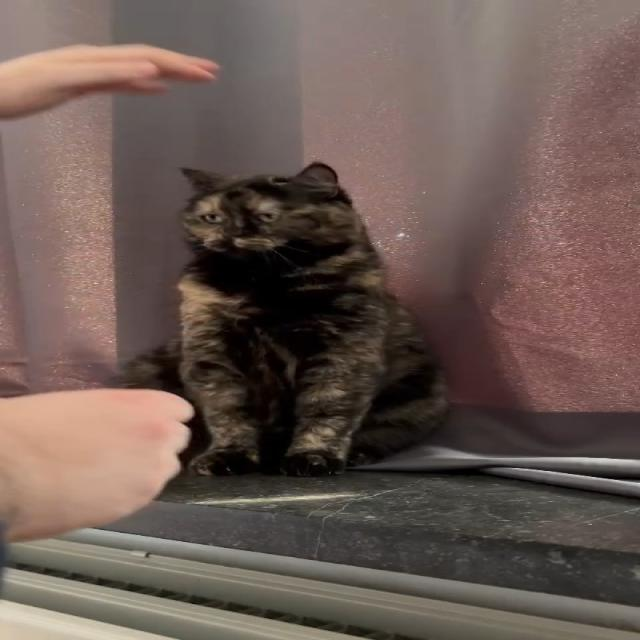authorized: (113, 160, 451, 477)
